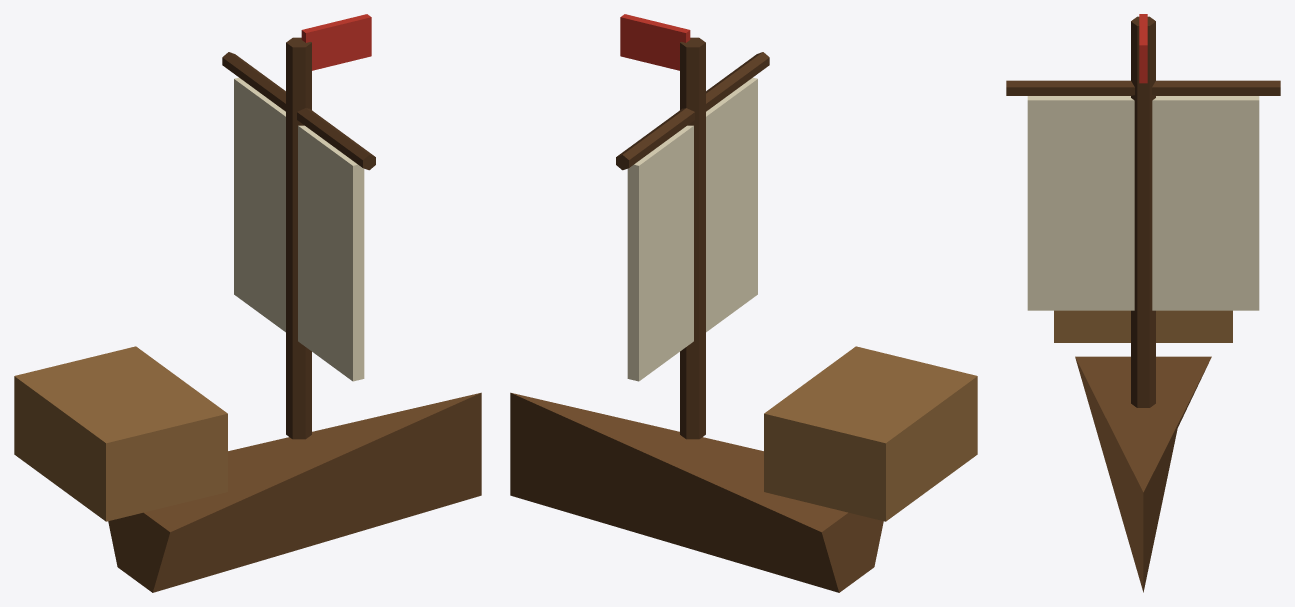
File: boat.glb
The picture shows the model from 3 angles, left to right: view 1: azimuth 30°, elevation 25°; view 2: azimuth 150°, elevation 25°; view 3: azimuth 270°, elevation 25°; orthographic projection. The views are drawn at different scales.
Parts seen in each view (by area): view 1: Cube, Cube.001, Cube.002, Cylinder, Cylinder.001, Cube.003; view 2: Cube, Cube.001, Cube.002, Cylinder, Cylinder.001, Cube.003; view 3: Cube.002, Cube, Cylinder, Cube.001, Cylinder.001, Cube.003.
Boxes of the visible parts, box(x1,y1,x2,y2) form: Cube: box(108, 392, 481, 592); Cube.001: box(14, 346, 227, 521); Cube.002: box(234, 77, 364, 381); Cylinder: box(286, 37, 311, 439); Cylinder.001: box(222, 52, 375, 170); Cube.003: box(301, 14, 371, 70); Cube: box(510, 392, 883, 592); Cube.001: box(764, 346, 977, 521); Cube.002: box(627, 77, 757, 381); Cylinder: box(680, 37, 705, 439); Cylinder.001: box(616, 52, 769, 170); Cube.003: box(620, 14, 690, 70); Cube.002: box(1027, 96, 1259, 310); Cube: box(1075, 356, 1211, 592); Cylinder: box(1131, 16, 1155, 407); Cube.001: box(1054, 310, 1232, 342); Cylinder.001: box(1006, 80, 1280, 95); Cube.003: box(1139, 14, 1147, 83).
Bounding box in the file's own units: 0.45 × 0.5175 × 0.26.
